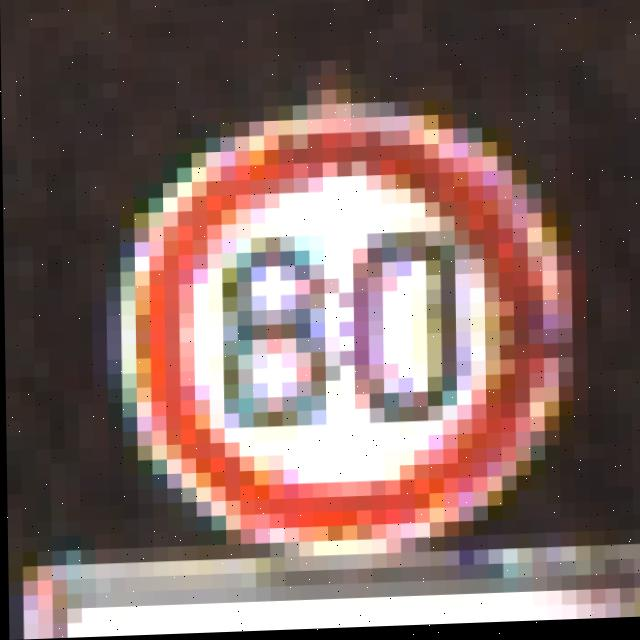speed_limit_80: (126, 87, 562, 560)
